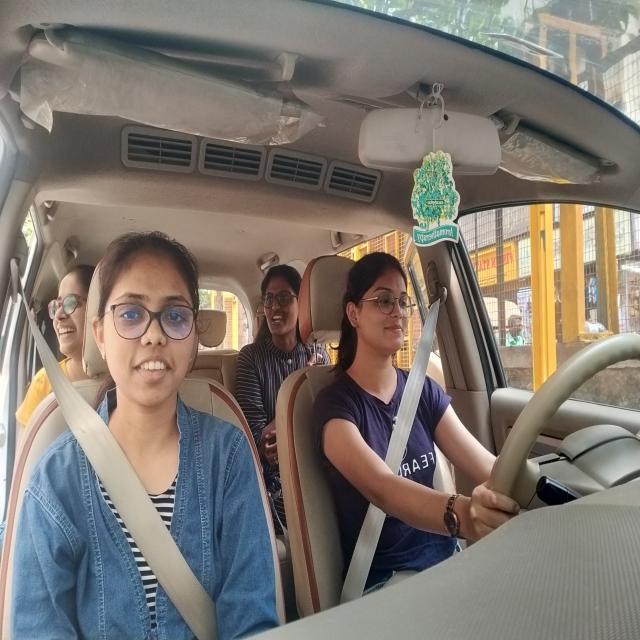person: (94, 228, 205, 412), (343, 246, 418, 356), (259, 260, 305, 352), (49, 265, 92, 358)
